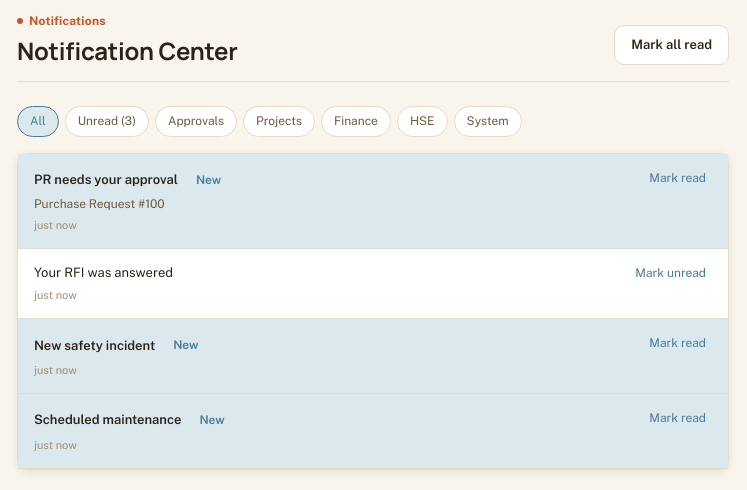
Scenario: NotificationCenterPage › filters to real Approvals only via the real workflow.* category derivation
The image size is (747, 490).
Check: the text "PR needs your approval" is shown, box [34,170,178,190]
What coordinates should you click on to do the following:
click the tab "Approvals"
I would click on:
 (196, 122)
Its box is [155,106,237,137].
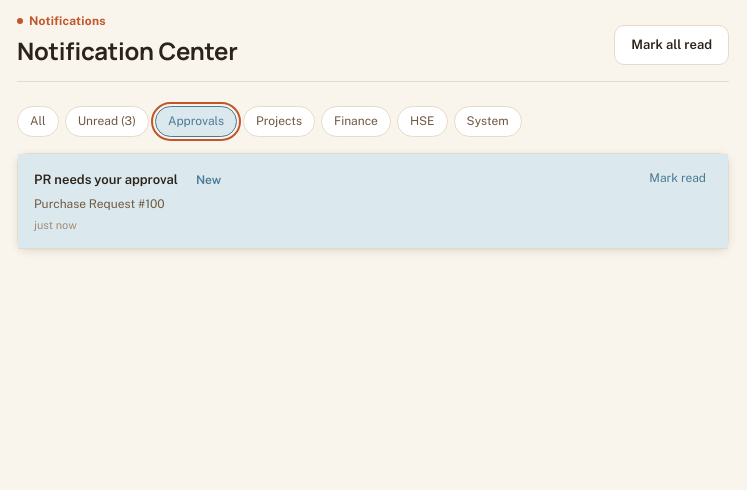
Check: the text "PR needs your approval" is shown, box [34,170,178,190]
Check: the text "Your RFI was answered" is gone
Check: the text "New safety incident" is gone
